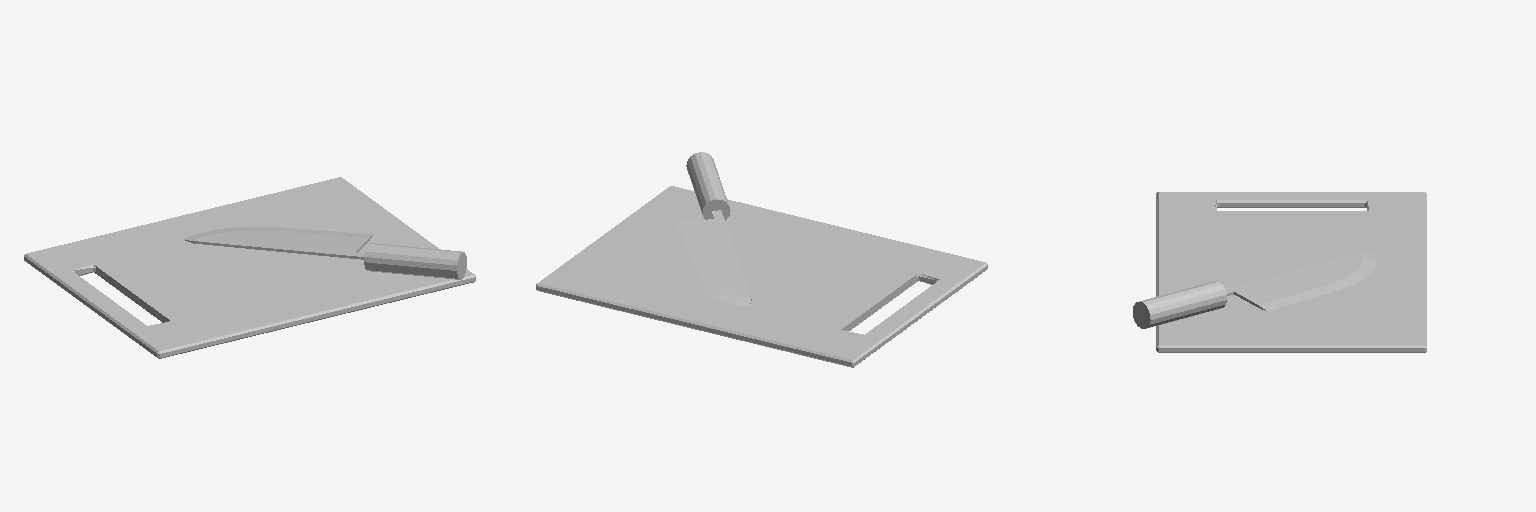
File: KITC_KNIFE.obj
The picture shows the model from 3 angles: view 1: azimuth 30°, elevation 25°; view 2: azimuth 150°, elevation 25°; view 3: azimuth 270°, elevation 25°; orthographic projection.
Visible parts, largest first — view 1: cube1, cylinder2; view 2: cube1, cylinder2; view 3: cube1, cylinder2.
Boxes of the visible parts, <box> form: cube1: <box>24,177,475,358</box>; cylinder2: <box>183,227,466,279</box>; cube1: <box>536,186,987,367</box>; cylinder2: <box>663,152,751,305</box>; cube1: <box>1156,192,1426,352</box>; cylinder2: <box>1133,253,1375,328</box>.
Bounding box in the file's own units: 7.17 × 0.8715 × 5.74.